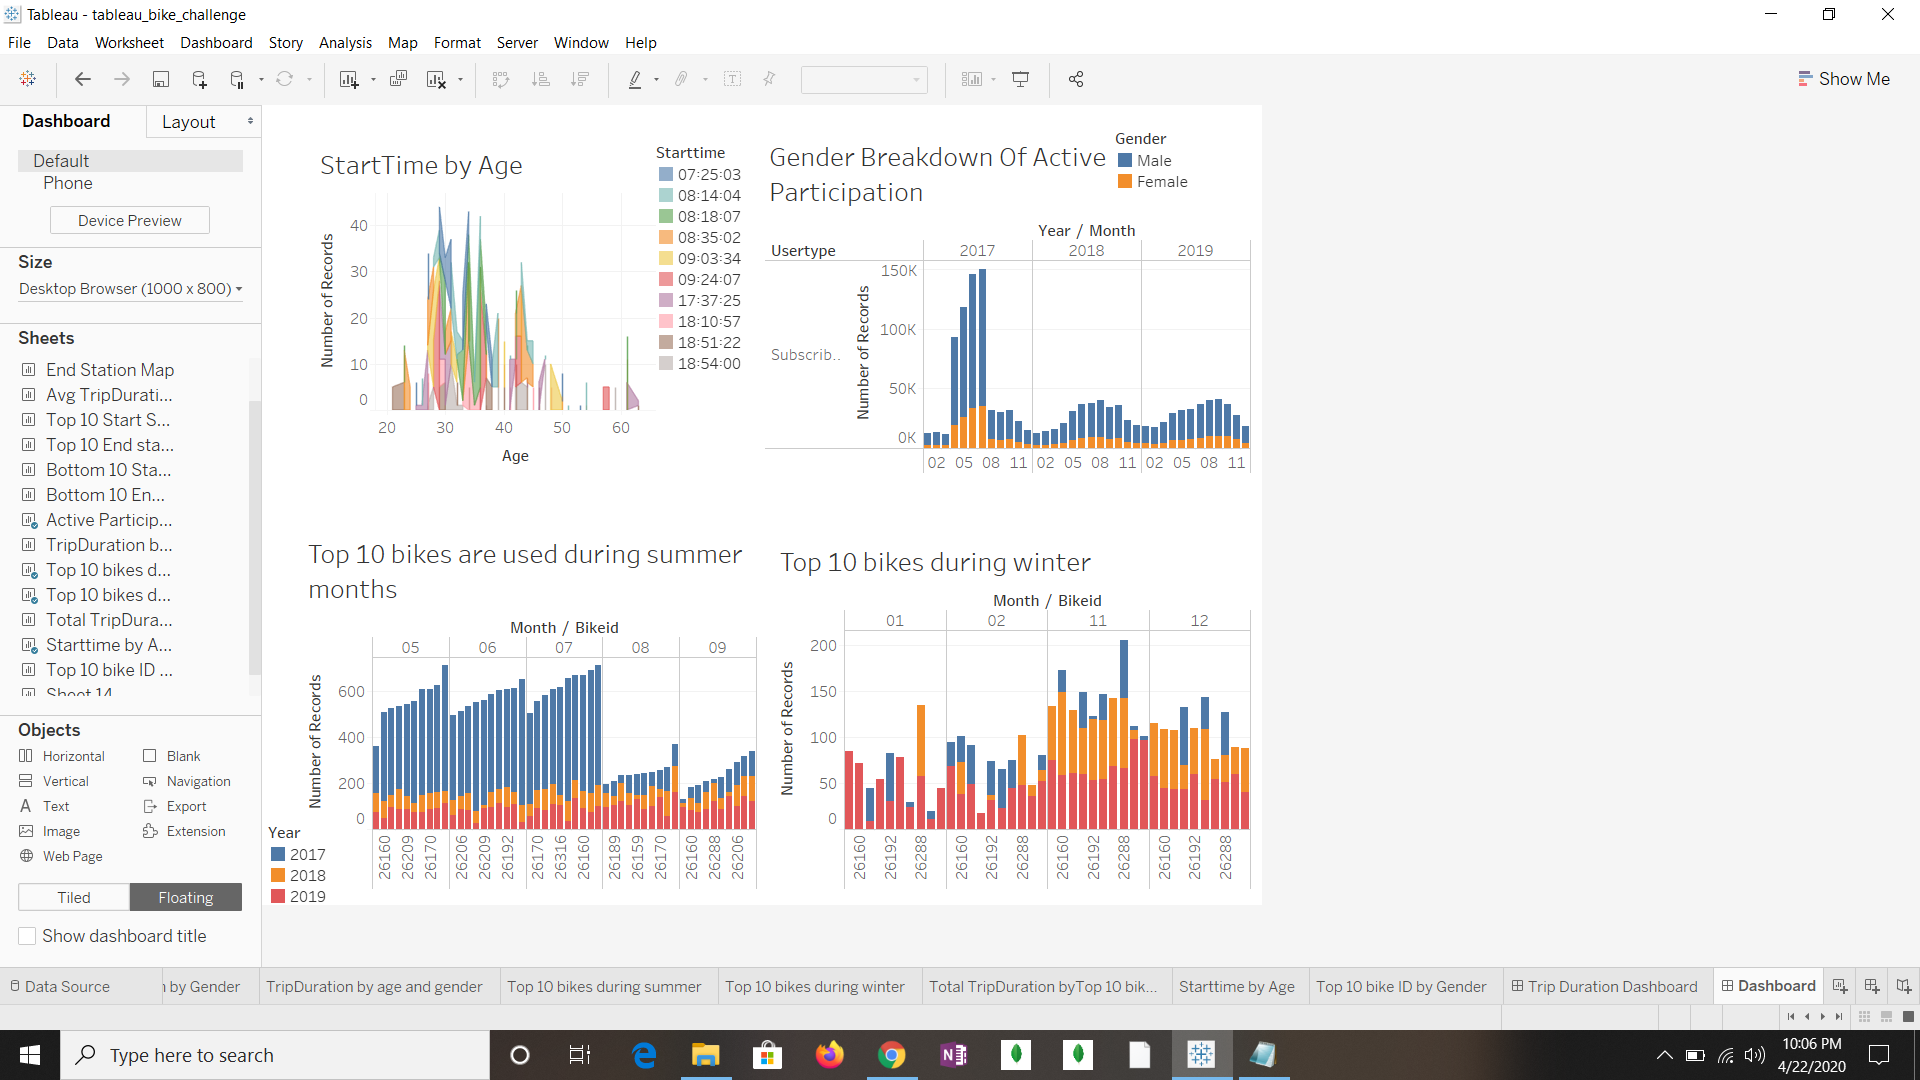

What the dashboard file says about the page in this screenshot:
{"tool":"tableau","page":{"name":"Dashboard","canvas":[1000,800],"ordinal":0},"visuals":[{"type":"legend","title":"Active Participation by Gender","param":"[federated.1bfmyyo1ntfs8q1cw1d3908o9dc3].[none:gender:ok]","box":[853,23,140,64]},{"type":"worksheet","title":"Active Participation by Gender","mark":"Automatic","rows":["usertype","Number of Records"],"cols":["year","month"],"box":[503,30,486,339]},{"type":"legend","title":"Starttime by Age","param":"[federated.1bfmyyo1ntfs8q1cw1d3908o9dc3].[none:starttime:nk]","box":[394,37,140,232]},{"type":"worksheet","title":"Starttime by Age","mark":"Area","rows":["Number of Records"],"cols":["age"],"box":[54,38,340,330]},{"type":"worksheet","title":"Top 10 bikes during summer","mark":"Automatic","rows":["Number of Records"],"cols":["month","bikeid"],"box":[42,427,453,358]},{"type":"worksheet","title":"Top 10 bikes during winter","mark":"Automatic","rows":["Number of Records"],"cols":["month","bikeid"],"box":[514,435,475,350]},{"type":"legend","title":"Top 10 bikes during summer","param":"[federated.1bfmyyo1ntfs8q1cw1d3908o9dc3].[none:year:nk]","box":[6,717,140,85]}]}

Visuals, with their boxes on the page's 1000x800 design canvas (x1, y1, x2, y2). These are canvas units, not pixel positions in the 1920x1080 screenshot, which may show the page scaled, cropped or inside an application window:
"Active Participation by Gender" legend: bbox=[853, 23, 993, 87]
"Active Participation by Gender" worksheet: bbox=[503, 30, 989, 369]
"Starttime by Age" legend: bbox=[394, 37, 534, 269]
"Starttime by Age" worksheet (Area marks): bbox=[54, 38, 394, 368]
"Top 10 bikes during summer" worksheet: bbox=[42, 427, 495, 785]
"Top 10 bikes during winter" worksheet: bbox=[514, 435, 989, 785]
"Top 10 bikes during summer" legend: bbox=[6, 717, 146, 802]
